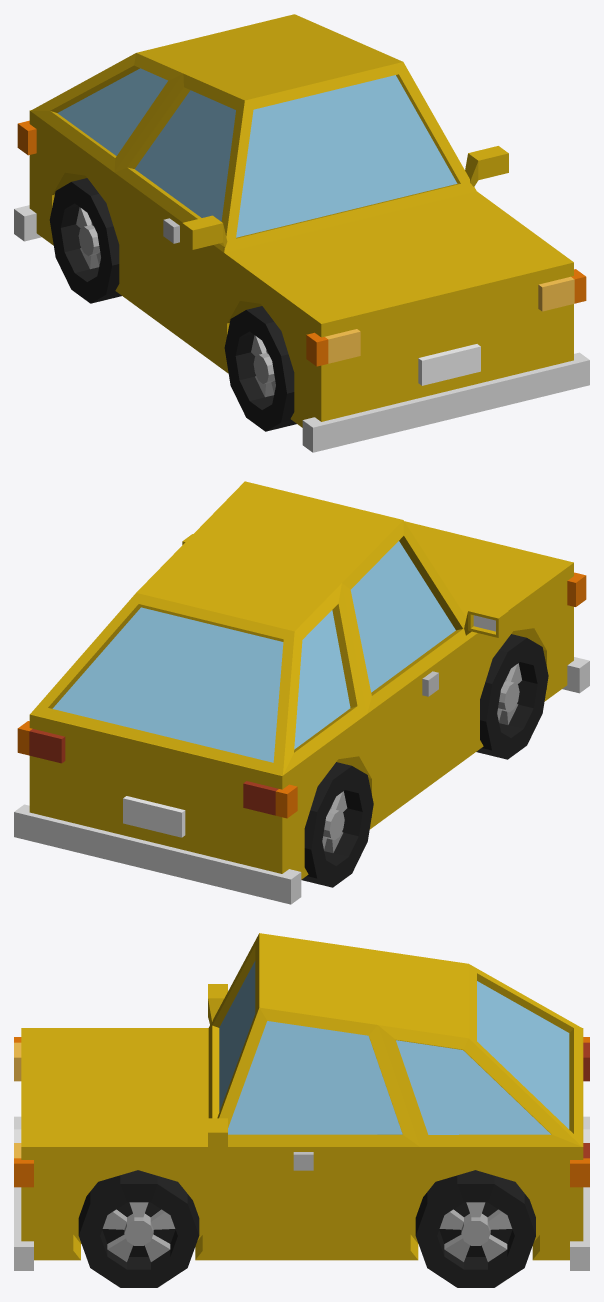
File: car2.glb
3 views of the same model, one above another, from view 1: azimuth 30°, elevation 25°; view 2: azimuth 150°, elevation 25°; view 3: azimuth 270°, elevation 25° (orthographic). The views are drawn at different scales.
Parts seen in each view (by area): view 1: Vehicle_Material_0; view 2: Vehicle_Material_0; view 3: Vehicle_Material_0.
Boxes of the visible parts, <box> form: Vehicle_Material_0: <box>14,14,589,452</box>; Vehicle_Material_0: <box>14,481,589,904</box>; Vehicle_Material_0: <box>14,933,589,1287</box>.
Size of the model in its own units: 2.5 by 2.01 by 4.1.
1 material, 1 textured.
